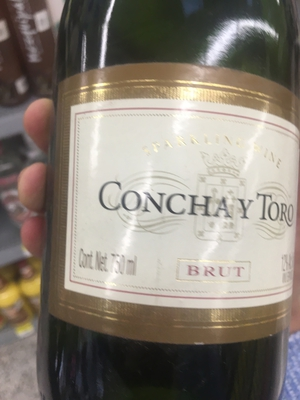brut: (42, 4, 296, 400)
